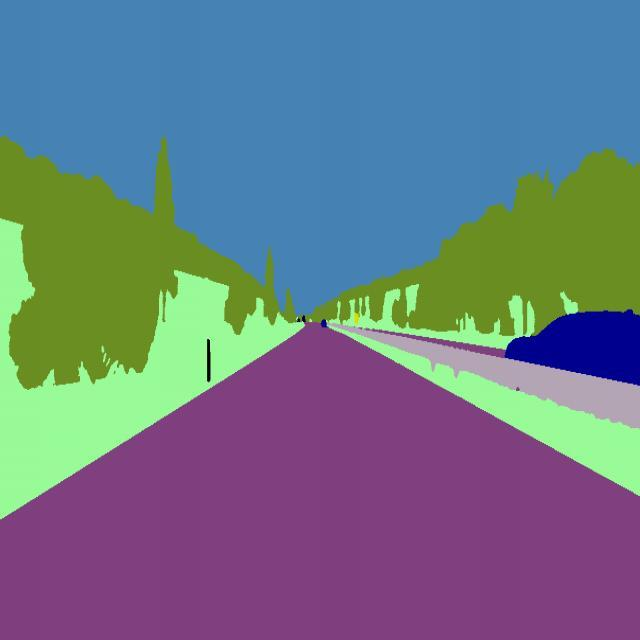safe: (496, 299, 640, 408), (318, 316, 328, 332)
